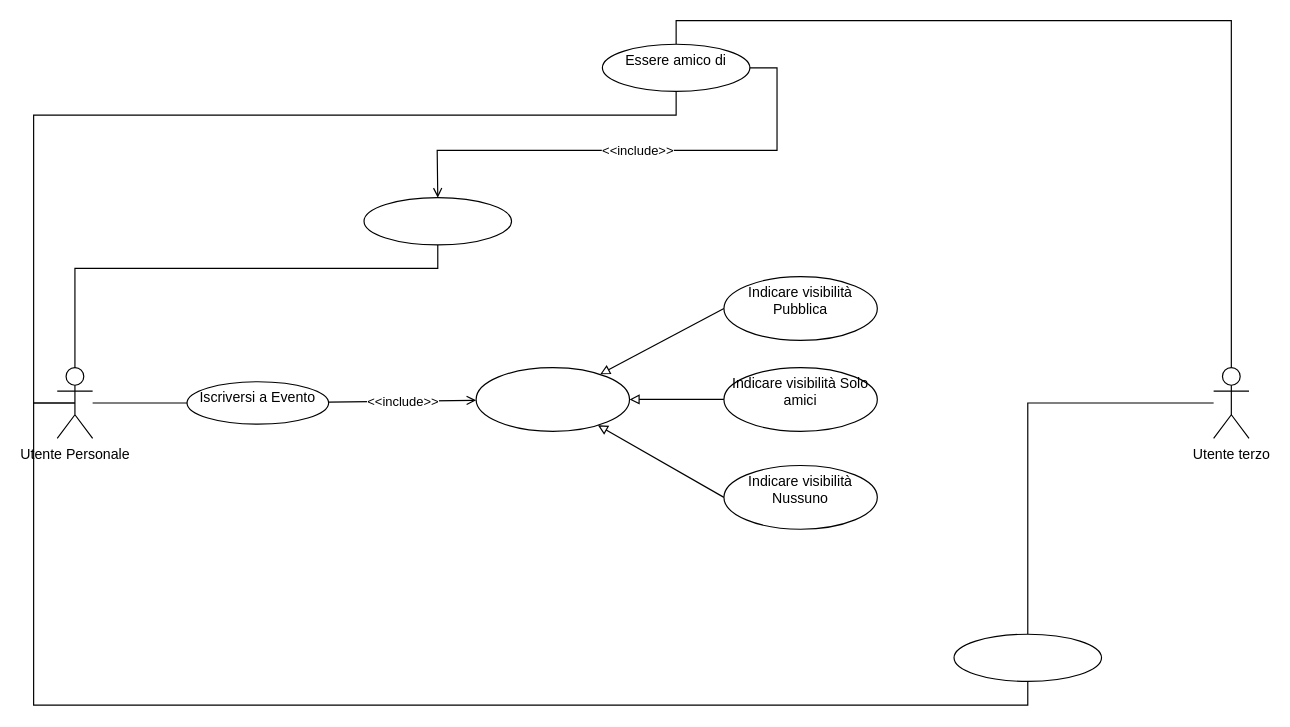
The diagram is 1290 pixels wide and 727 high, and some of its shapes have lost their labels. The shapes that lost their labels are listed below. From the top down, each one's box as (x1, y1, x2, y2) in pixels, then its label:
(363, 196, 512, 245): Vedere iscrizioni con visibilità Solo amici di
(475, 366, 630, 431): Indicare visibilità iscrizione Evento
(953, 633, 1102, 681): Vedere iscrizioni con visibilità Pubblica di
